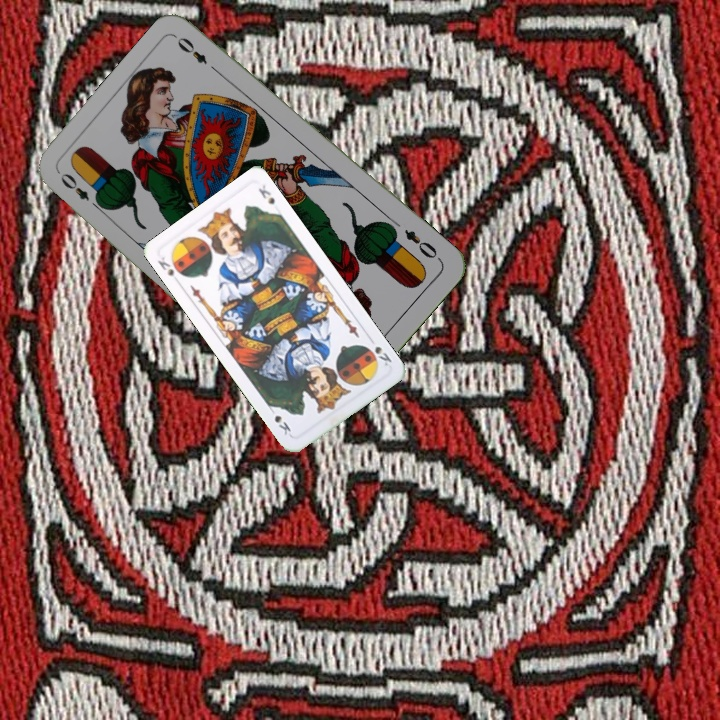EO: (56, 168, 105, 213), (400, 225, 444, 263)
SK: (153, 253, 183, 286), (362, 342, 394, 369)
